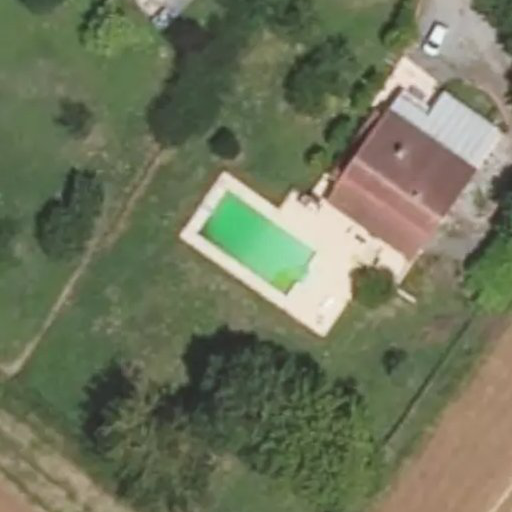pool: (199, 192, 317, 298)
